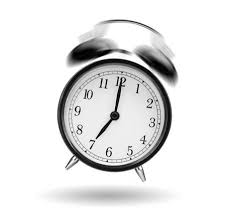alarm_clock: (53, 20, 179, 178)
